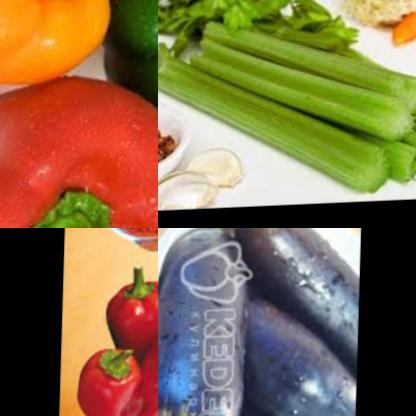bell pepper: (0, 74, 158, 228), (0, 0, 158, 88), (103, 0, 158, 160), (97, 260, 158, 363), (78, 343, 147, 416), (126, 367, 158, 416), (142, 323, 158, 407)
celery: (158, 5, 416, 209), (158, 0, 364, 48)
eggplant: (158, 228, 258, 416), (238, 228, 361, 366), (247, 300, 360, 416)
